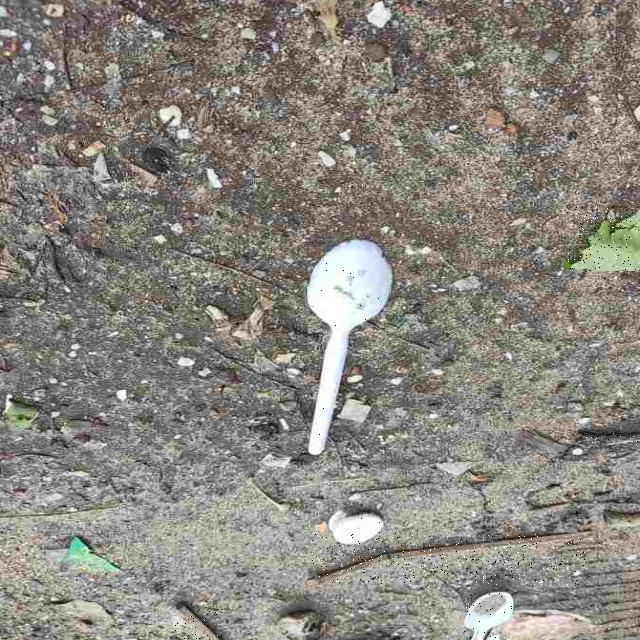biowaste: (308, 532, 590, 585), (567, 209, 639, 270), (175, 604, 222, 640), (580, 432, 639, 446)
plastic: (307, 239, 390, 454), (464, 593, 514, 640), (328, 511, 382, 545)
